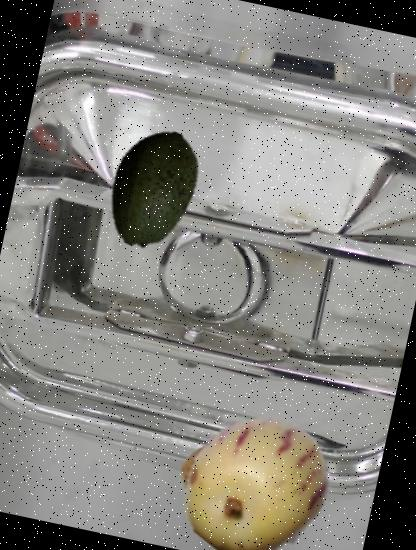Avocado: (79, 116, 225, 262)
Nut: (168, 440, 244, 516)
Pepino: (169, 400, 345, 550)
